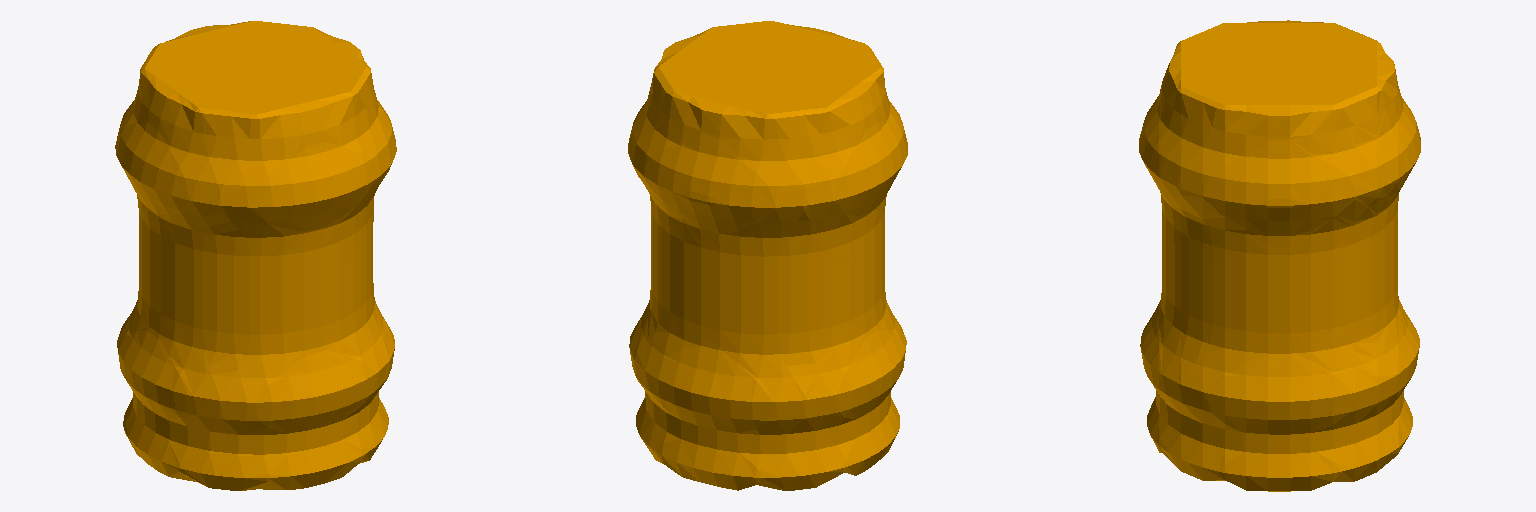
The robot description file, URDF, robot "cylinder_../../meshes/cylinders/cylinder_47.stl":
<?xml version="1.0" encoding="utf-8"?>  <robot name="cylinder_../../meshes/cylinders/cylinder_47.stl">   <link name="cylinder_../../meshes/cylinders/cylinder_47.stl">     <visual>       <geometry>         <mesh filename="../meshes/cylinders/cylinder_47.stl" scale="1 1 1"/>       </geometry>     </visual>     <collision>       <geometry>         <mesh filename="../meshes/cylinders/cylinder_47.stl" scale="1 1 1"/>       </geometry>     </collision>     <inertial>        <origin         xyz="0 0 0"         rpy="0 0 0" />       <mass value="0.2456314406949211"/>       <origin rpy="0 0 0" xyz="0 0 0"/>       <inertia ixx="0.00023554079312331432" ixy="-2.031460902045992e-08" ixz="-1.321340061464112e-08" iyy="0.00023554099134180653" iyz="-1.558304752183853e-08" izz="0.00010485338564630487"/>     </inertial>   </link>  </robot>

--- What the picture shows (computed from the rendered views, not written in the file) ---
Views: 3 orthographic renders of the robot side by side, from view 1: azimuth 30°, elevation 25°; view 2: azimuth 150°, elevation 25°; view 3: azimuth 270°, elevation 25°.
Robot: cylinder_../../meshes/cylinders/cylinder_47.stl — 1 links, 0 joints (none); root link cylinder_../../meshes/cylinders/cylinder_47.stl; default pose: all joints at 0.
Visible links, largest first — view 1: cylinder_../../meshes/cylinders/cylinder_47.stl; view 2: cylinder_../../meshes/cylinders/cylinder_47.stl; view 3: cylinder_../../meshes/cylinders/cylinder_47.stl.
Boxes of the visible links, left/top/right/bottom form: cylinder_../../meshes/cylinders/cylinder_47.stl: left=115, top=21, right=396, bottom=490; cylinder_../../meshes/cylinders/cylinder_47.stl: left=628, top=21, right=907, bottom=490; cylinder_../../meshes/cylinders/cylinder_47.stl: left=1139, top=20, right=1420, bottom=491.
Bounding box of the posed robot: 0.0651 × 0.0651 × 0.0958 m (x, y, z).
1 mesh visuals loaded from 1 distinct referenced files (1 binary STL).